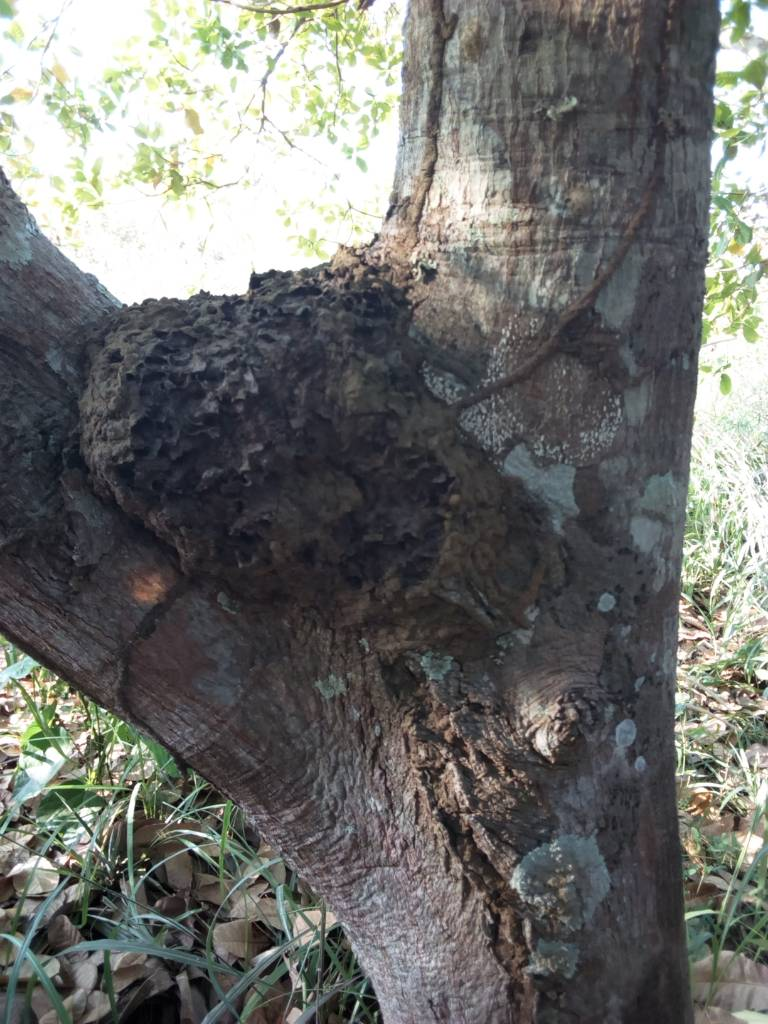Termites: (97, 300, 535, 633), (393, 678, 568, 964), (557, 538, 652, 725), (393, 2, 450, 261)
